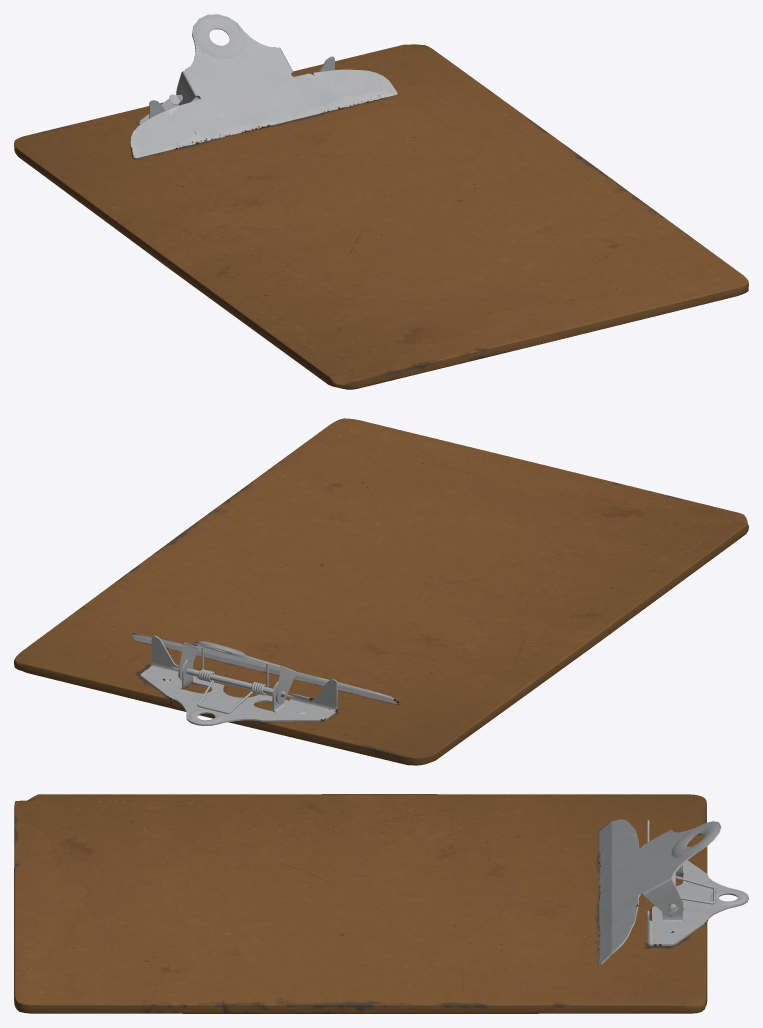
File: clipboard.glb
3 renders of one model, top to bottom at view 1: azimuth 30°, elevation 25°; view 2: azimuth 150°, elevation 25°; view 3: azimuth 270°, elevation 25°, orthographic. The views are drawn at different scales.
Parts seen in each view (by area): view 1: clipboard; view 2: clipboard; view 3: clipboard.
Boxes of the visible parts, x1,y1,x2,y2 form: clipboard: (14, 14, 748, 389); clipboard: (14, 418, 748, 765); clipboard: (14, 794, 748, 1013).
Bounding box in the file's own units: 0.2286 × 0.042 × 0.3366.
Materials: 1 (1 with a texture image).
